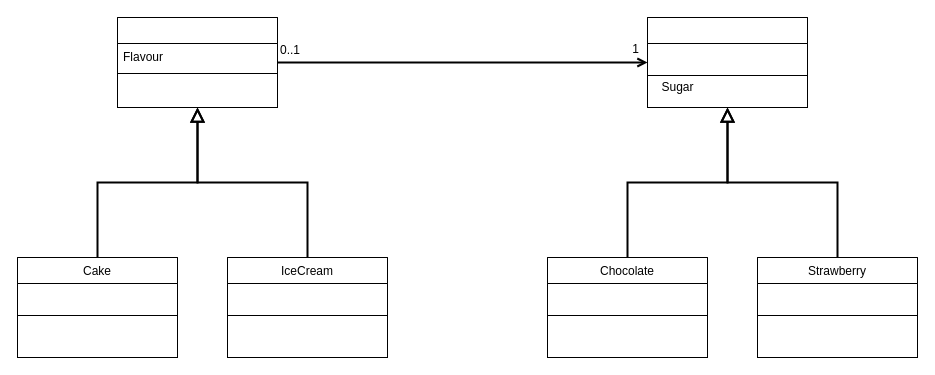
Some shapes in this 935 by 375 pixel diagram are drawn without their labels. Here are the shapes that lost their labels. From the top down, the box of each, then its label:
(116, 16, 278, 108): Candy
(646, 16, 808, 108): Flavor
